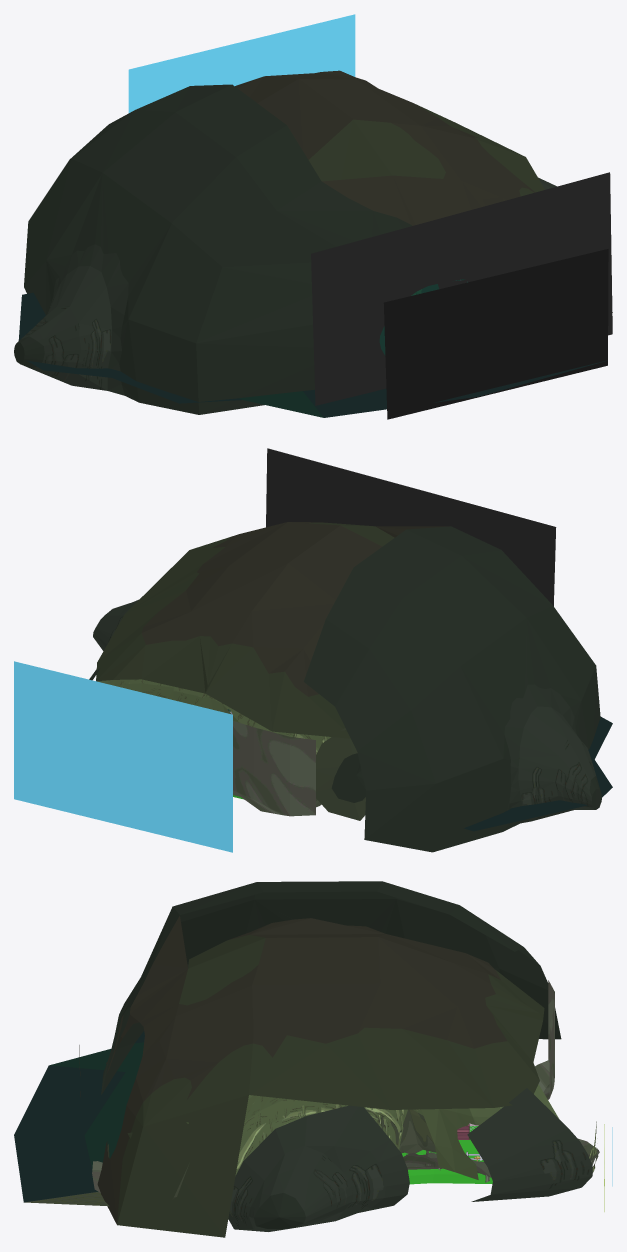
Rendered from Cave.glb.
3 renders of one model, top to bottom at view 1: azimuth 30°, elevation 25°; view 2: azimuth 150°, elevation 25°; view 3: azimuth 270°, elevation 25°, orthographic. The views are drawn at different scales.
Parts seen in each view (by area): view 1: Cave_Cave; view 2: Cave_Cave, Cave_Ground; view 3: Cave_Cave, Cave_Ground.
Boxes of the visible parts, x1,y1,x2,y2 form: Cave_Cave: (14, 14, 612, 419); Cave_Cave: (14, 448, 612, 852); Cave_Ground: (196, 695, 315, 816); Cave_Cave: (14, 881, 612, 1237); Cave_Ground: (92, 980, 599, 1192).
Bounding box in the file's own units: 96.22 × 37.75 × 89.04.
5 materials, 5 textured.
